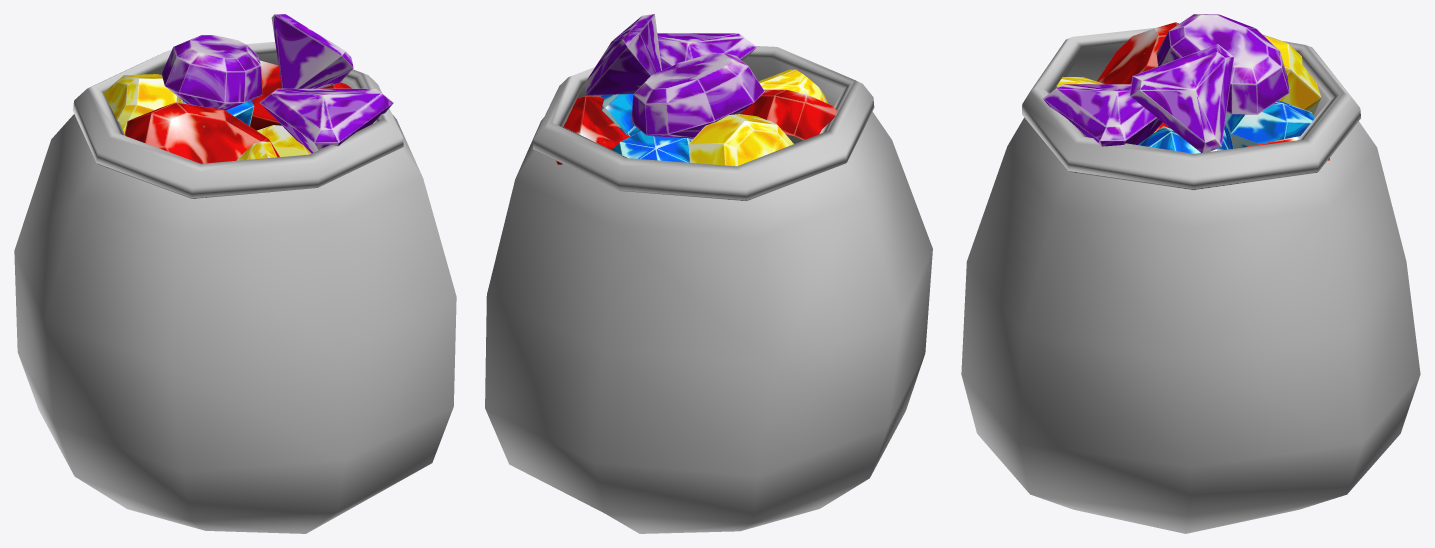
The model's file is sack_stone.fbx.
The picture shows the model from 3 angles, left to right: view 1: azimuth 30°, elevation 25°; view 2: azimuth 150°, elevation 25°; view 3: azimuth 270°, elevation 25°; orthographic projection. The views are drawn at different scales.
Visible parts, largest first — view 1: sack_stone_02, sack_stone_01; view 2: sack_stone_02, sack_stone_01; view 3: sack_stone_02, sack_stone_01.
Boxes of the visible parts, box(x1,y1,x2,y2) form: sack_stone_02: box(14, 42, 456, 533); sack_stone_01: box(103, 14, 393, 163); sack_stone_02: box(485, 46, 932, 533); sack_stone_01: box(556, 14, 836, 166); sack_stone_02: box(961, 28, 1420, 533); sack_stone_01: box(1043, 14, 1329, 160).
Size of the model in its own units: 15.57 by 18.02 by 15.62.
